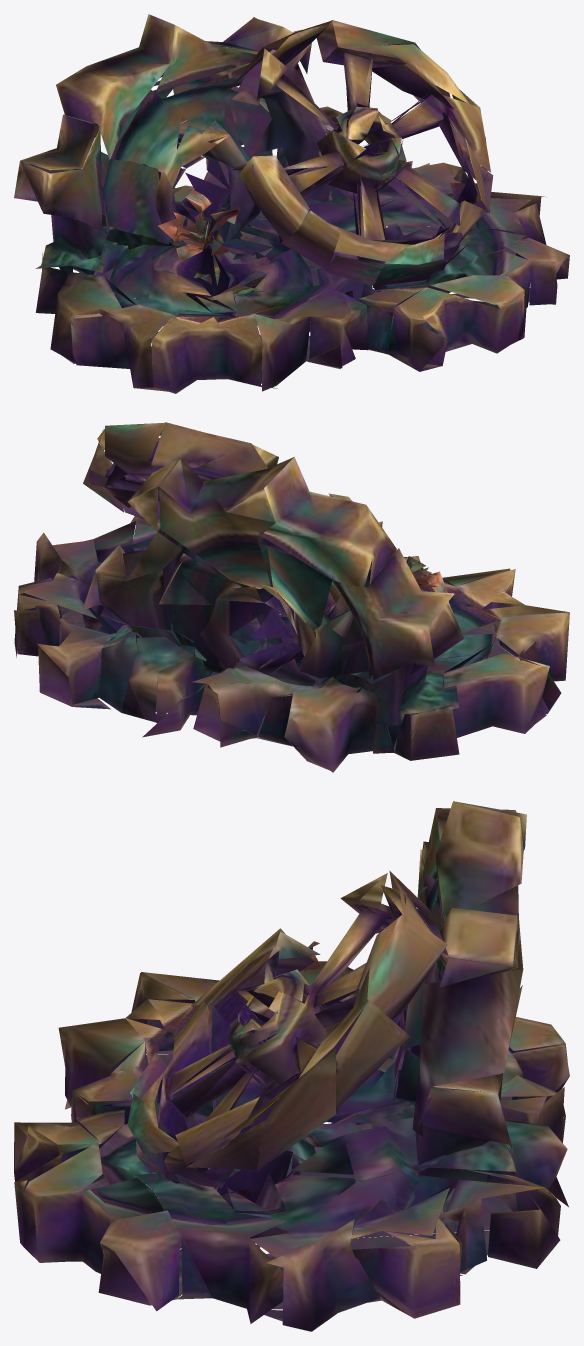
The model's file is p_c_rock_lo.glb.
3 views of the same model, one above another, from view 1: azimuth 30°, elevation 25°; view 2: azimuth 150°, elevation 25°; view 3: azimuth 270°, elevation 25° (orthographic). The views are drawn at different scales.
Visible parts, largest first — view 1: Mesh_0; view 2: Mesh_0; view 3: Mesh_0.
Part boxes in pixels (box(x1,y1,x2,y2)): Mesh_0: box(14, 14, 569, 393); Mesh_0: box(14, 422, 569, 772); Mesh_0: box(14, 801, 569, 1331).
Size of the model in its own units: 1.01 by 0.5201 by 0.7559.
1 material, 1 textured.
